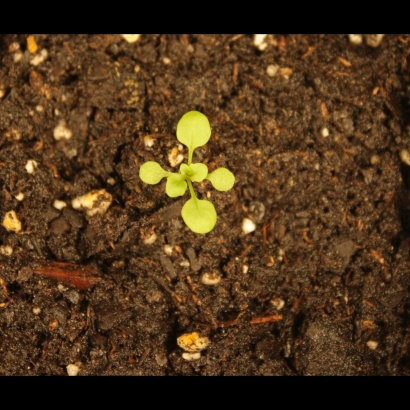leaf: (171, 110, 215, 151), (180, 197, 221, 237), (209, 163, 237, 193), (137, 159, 166, 187), (161, 174, 189, 203), (189, 162, 212, 185)
